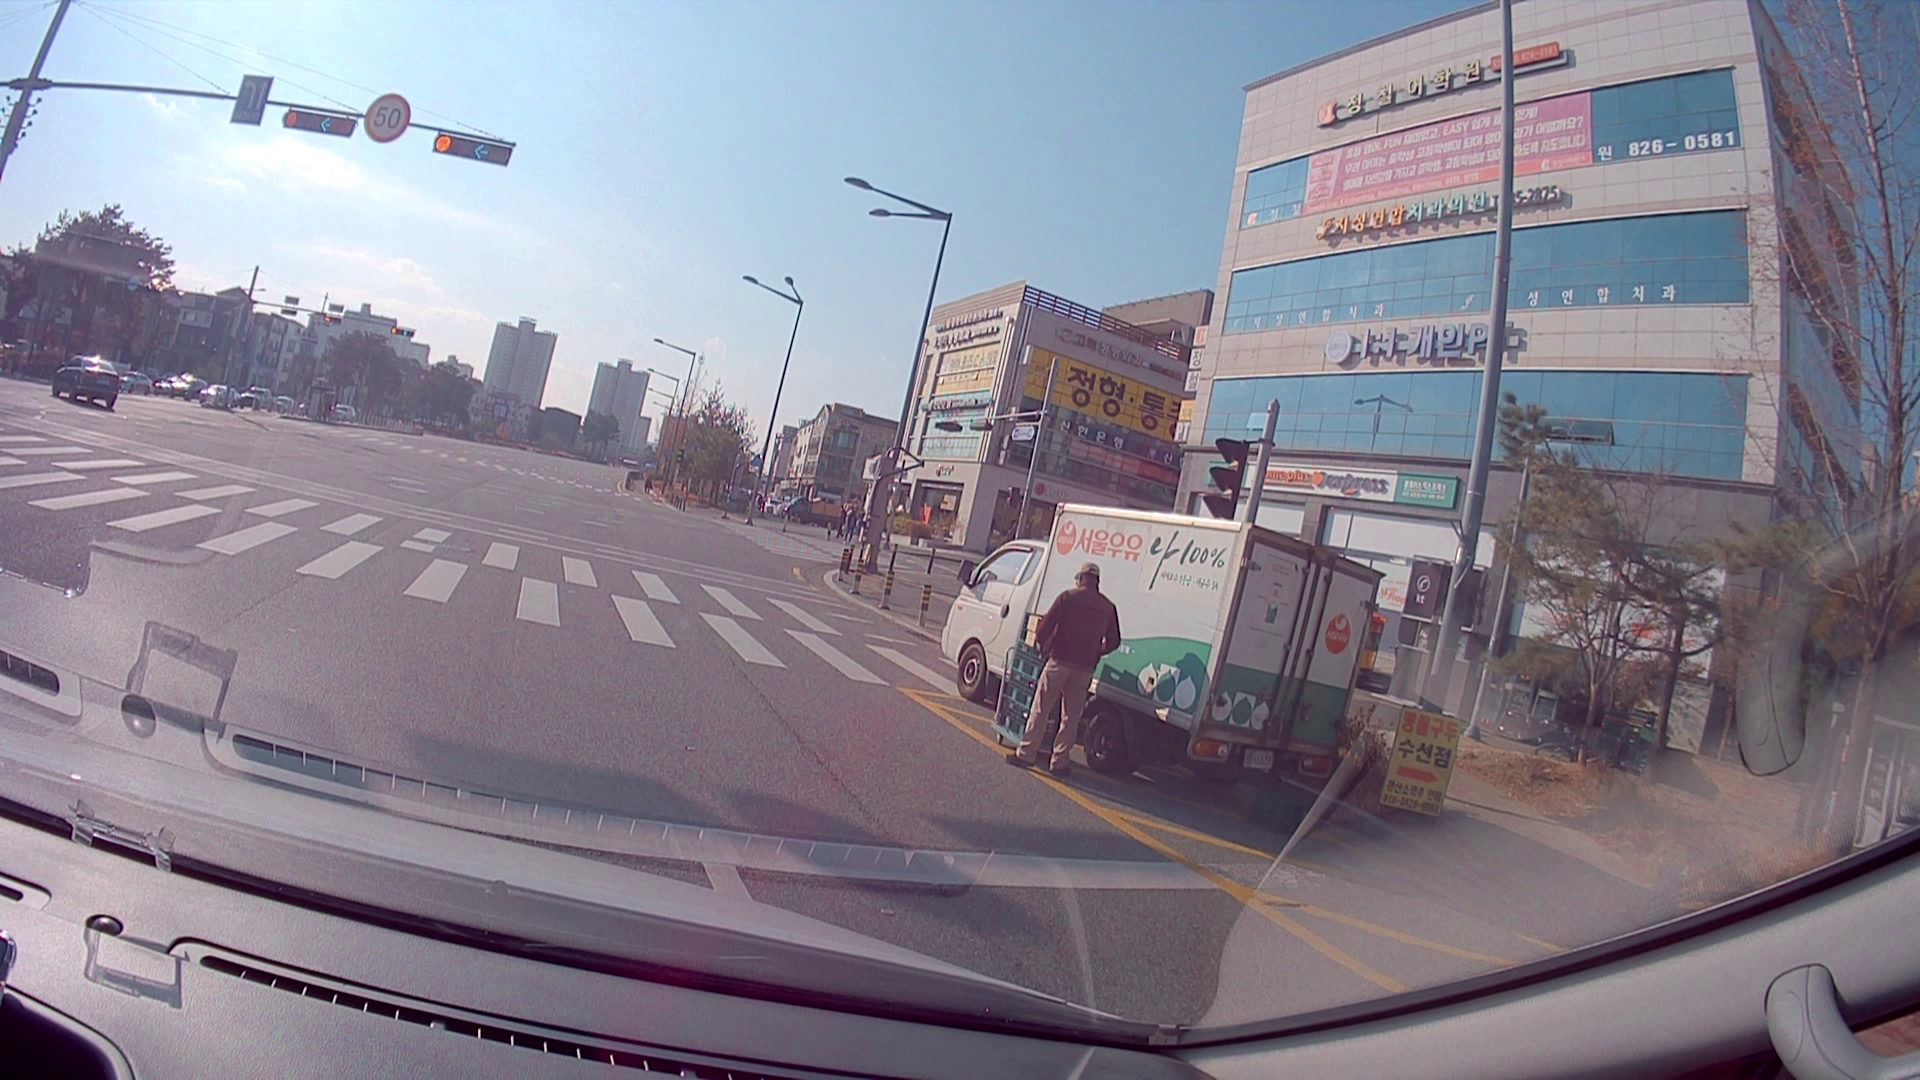trafficLight: (433, 129, 513, 171), (280, 105, 356, 138)
trafficSignCircle: (368, 92, 407, 144)
